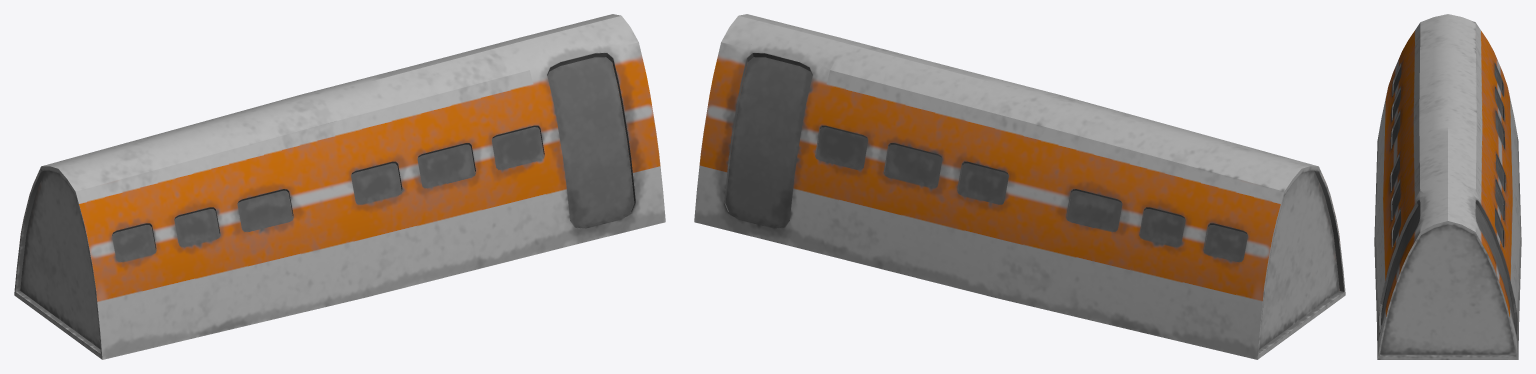
File: trainmidfinal.fbx
3 renders of one model, left to right at view 1: azimuth 30°, elevation 25°; view 2: azimuth 150°, elevation 25°; view 3: azimuth 270°, elevation 25°, orthographic. The views are drawn at different scales.
Visible parts, largest first — view 1: Cylinder.013; view 2: Cylinder.013; view 3: Cylinder.013.
Boxes of the visible parts, x1,y1,x2,y2 form: Cylinder.013: [14, 14, 665, 359]; Cylinder.013: [694, 14, 1345, 359]; Cylinder.013: [1374, 14, 1521, 359].
Size of the model in its own units: 630 by 186 by 179.
